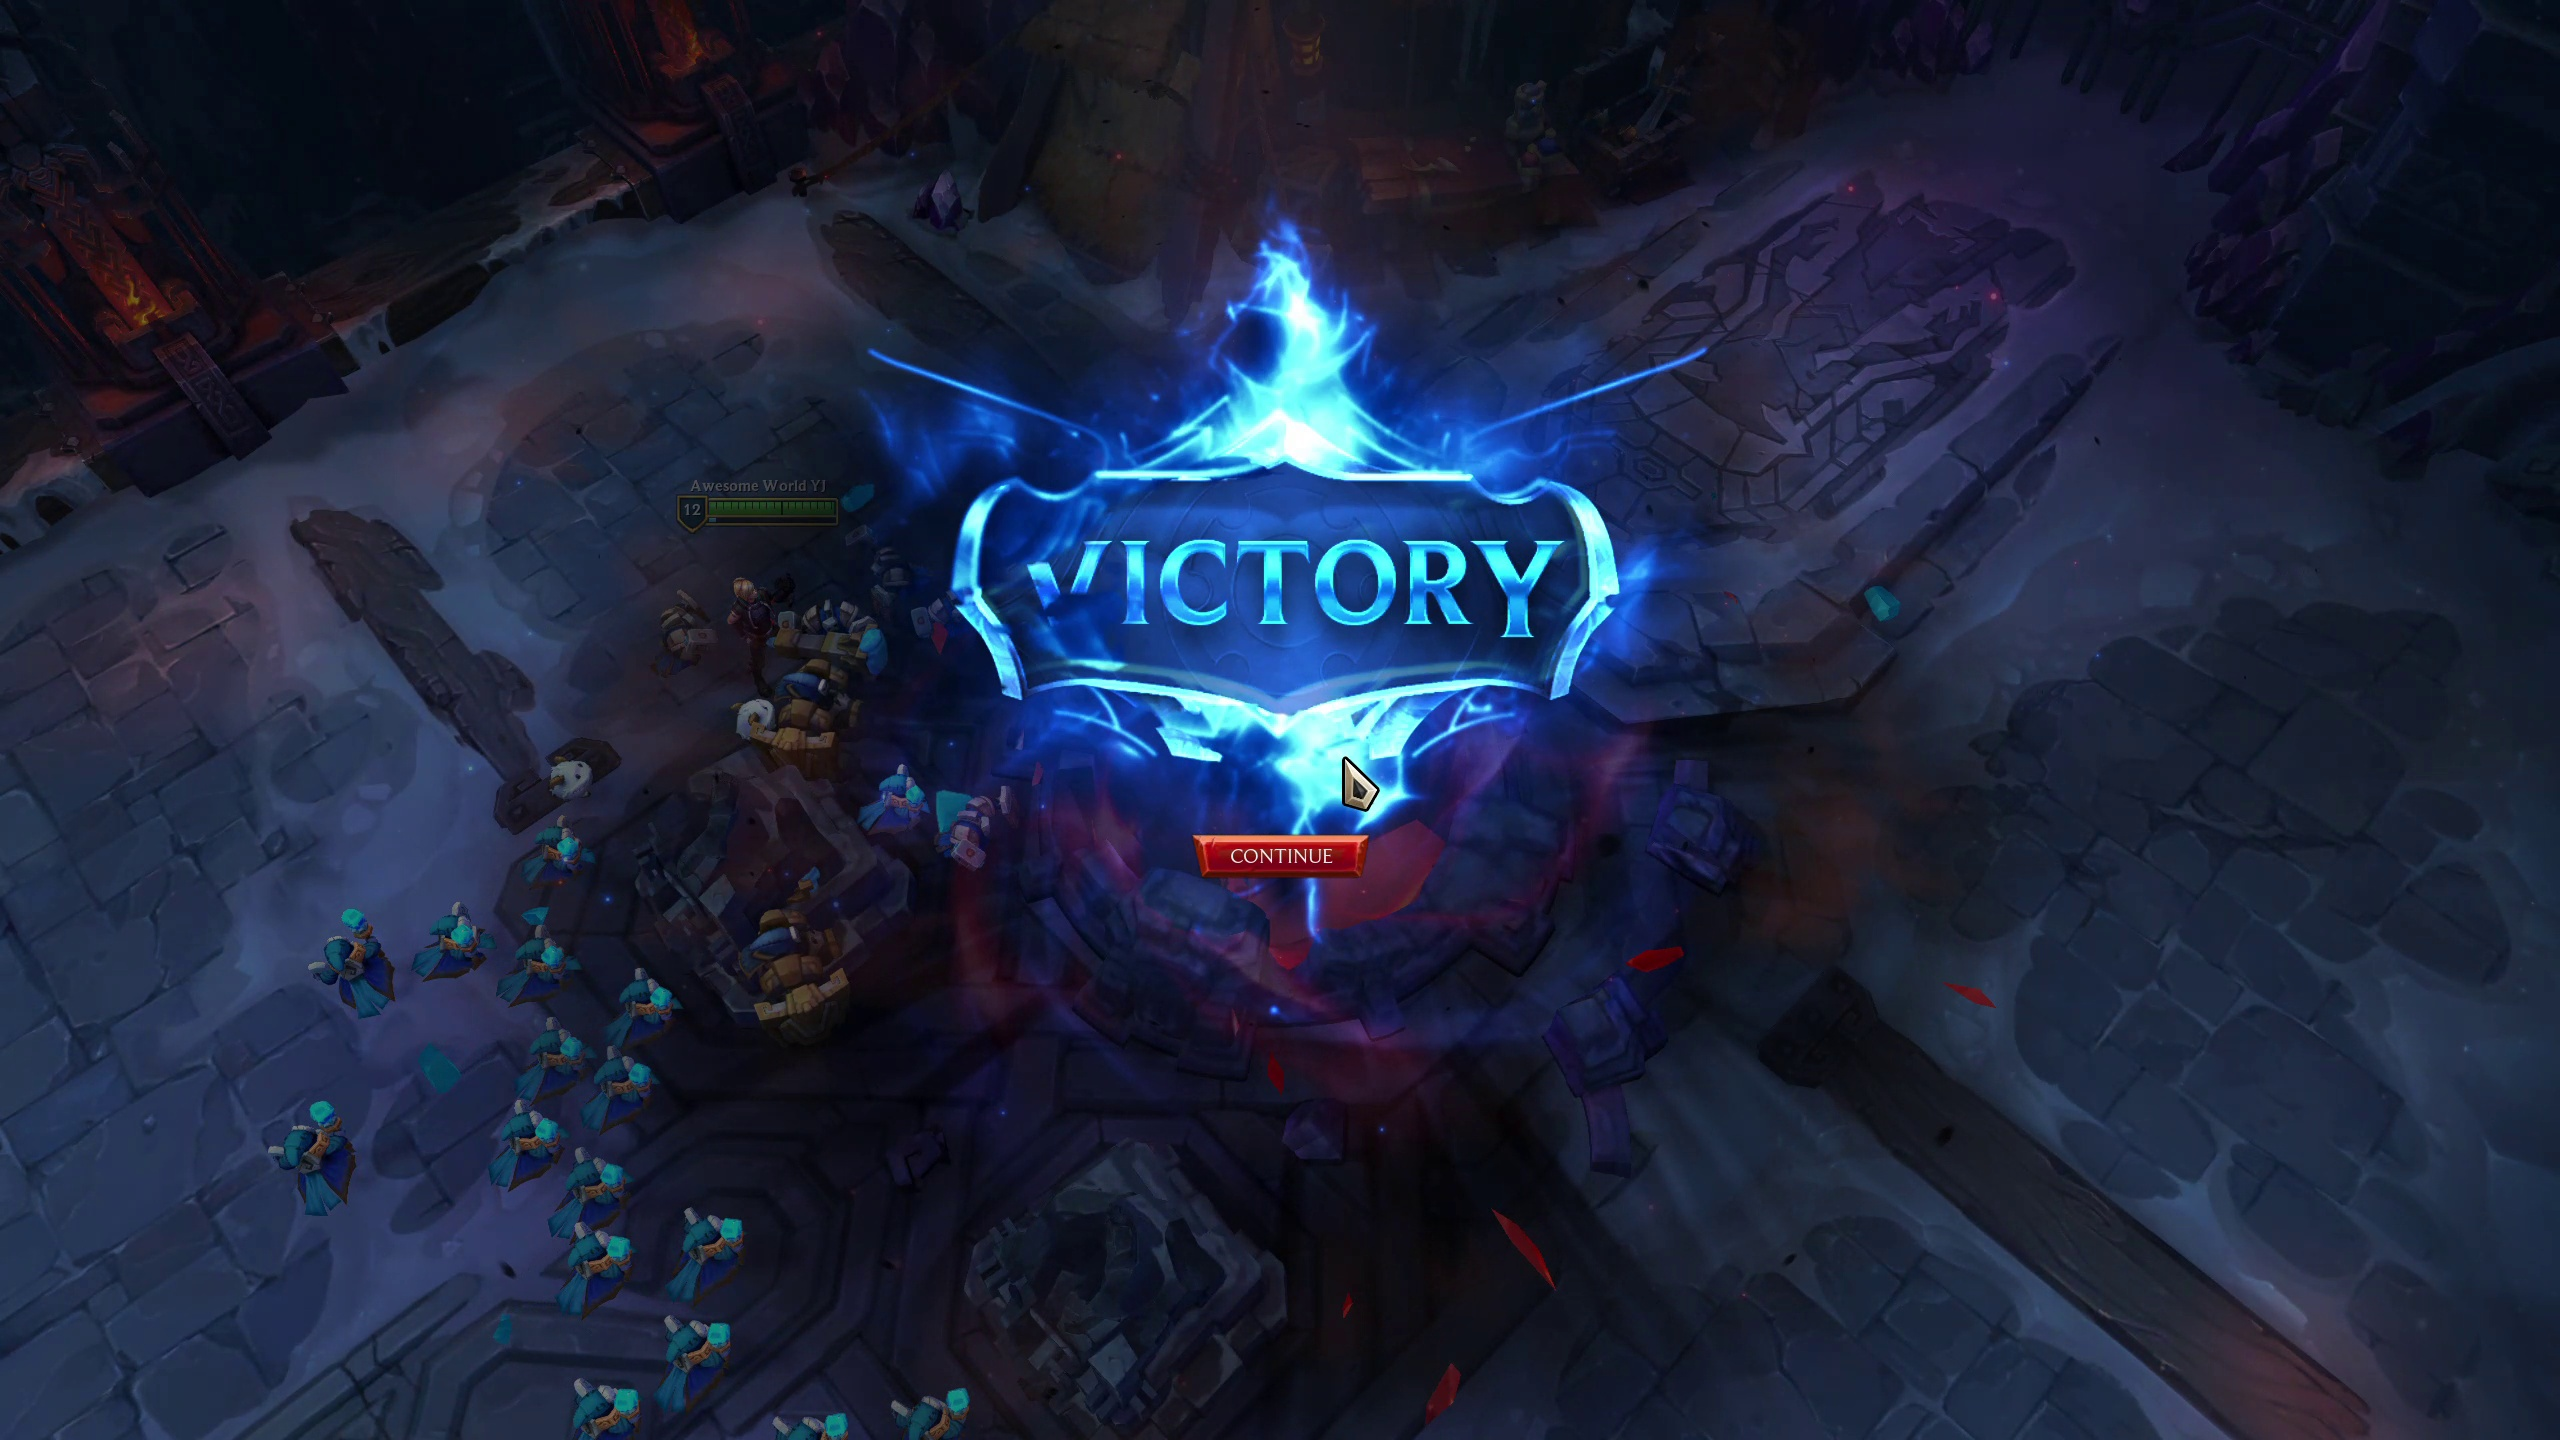Done: (1194, 828, 1378, 883)
